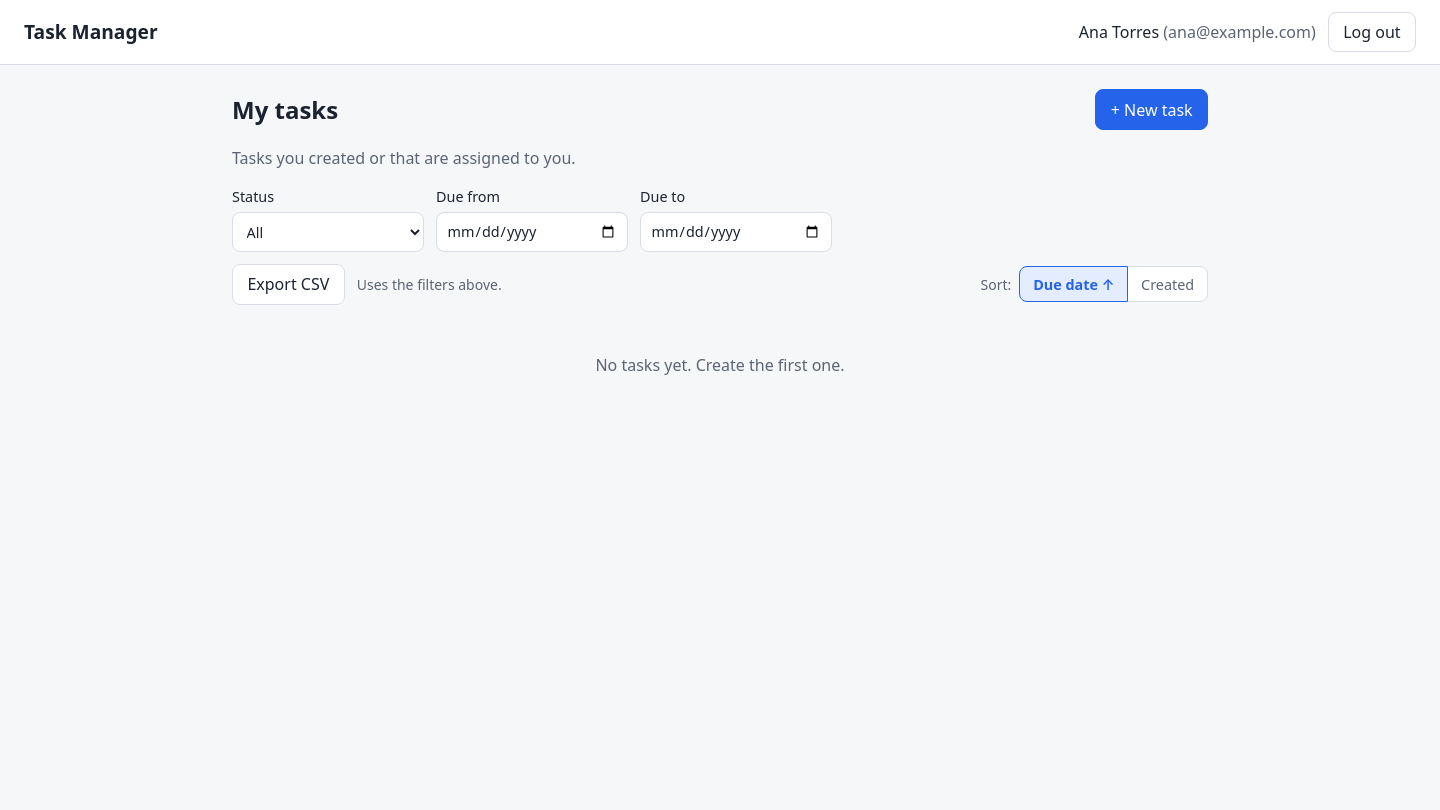
Scenario: notifications › does not notify when the save fails
Click the button "+ New task": x=1152, y=110 [1095, 89, 1208, 130]
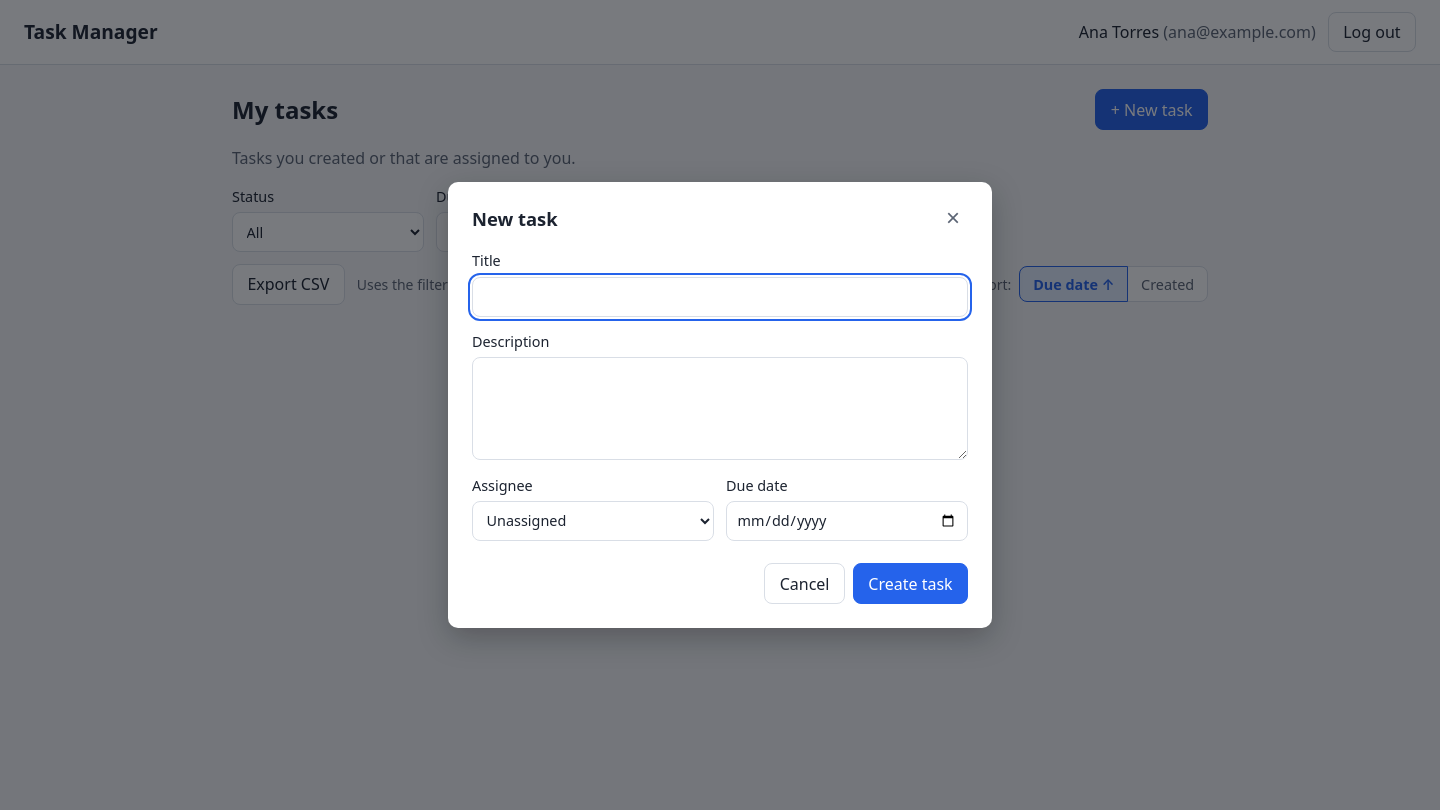
In the field labelled "Title": x=720, y=297 [472, 277, 968, 317], type "x"
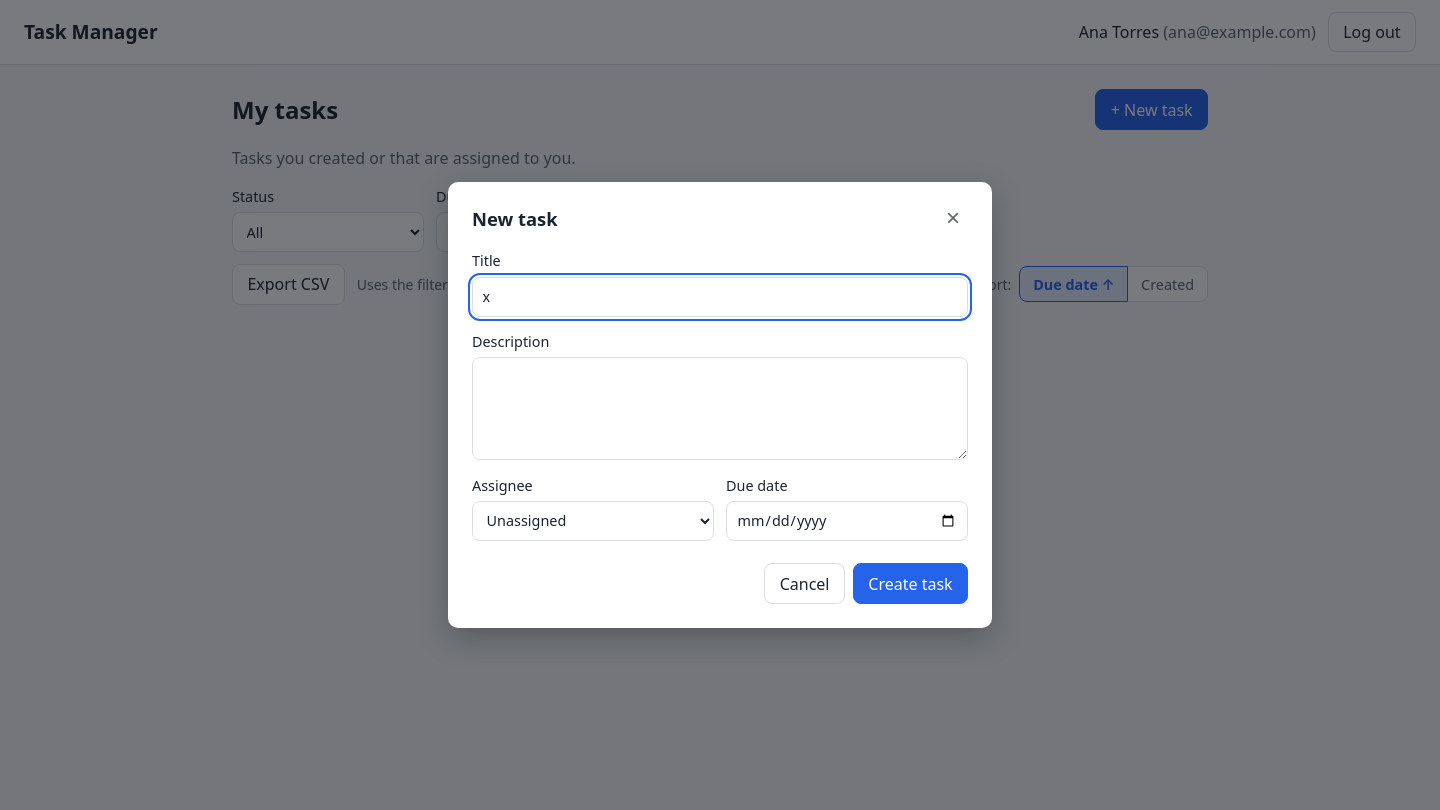
Click the button "Create task": x=910, y=584 [853, 563, 968, 604]
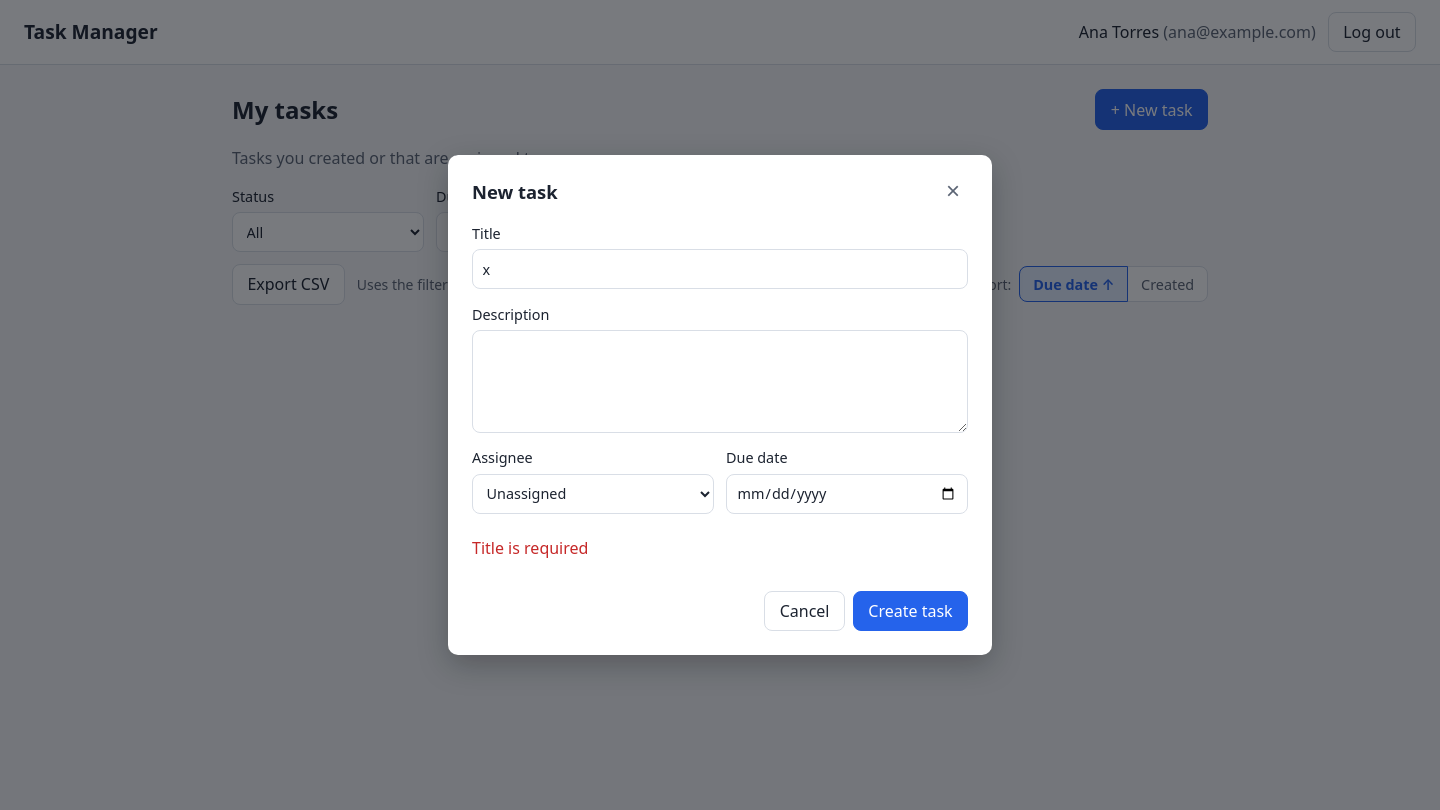
Now the message reads "Title is required", box [472, 537, 588, 559]
